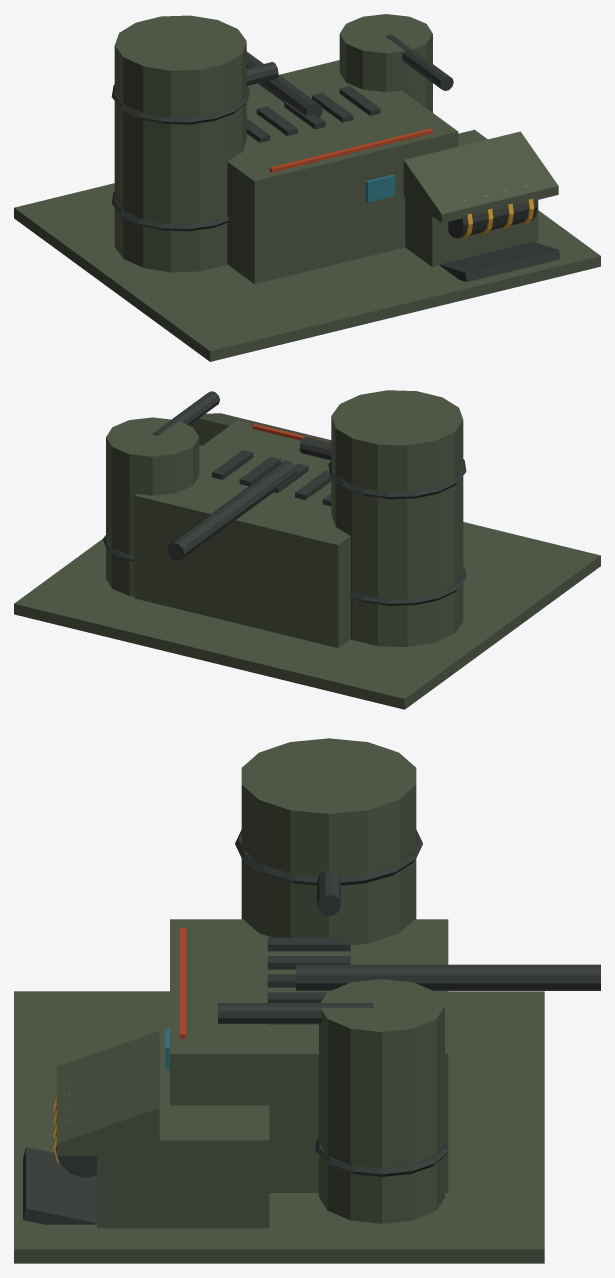
The model's file is Bastion_Refinery_Static.obj.
3 views of the same model, one above another, from view 1: azimuth 30°, elevation 25°; view 2: azimuth 150°, elevation 25°; view 3: azimuth 270°, elevation 25° (orthographic). The views are drawn at different scales.
Parts seen in each view (by area): view 1: Bastion_Refinery_Static; view 2: Bastion_Refinery_Static; view 3: Bastion_Refinery_Static.
Boxes of the visible parts, x1,y1,x2,y2 form: Bastion_Refinery_Static: (14,14,600,361); Bastion_Refinery_Static: (14,390,600,709); Bastion_Refinery_Static: (14,738,600,1263).
Size of the model in its own units: 9.2 by 4.78 by 8.85.
Materials: 1 (1 with a texture image).
